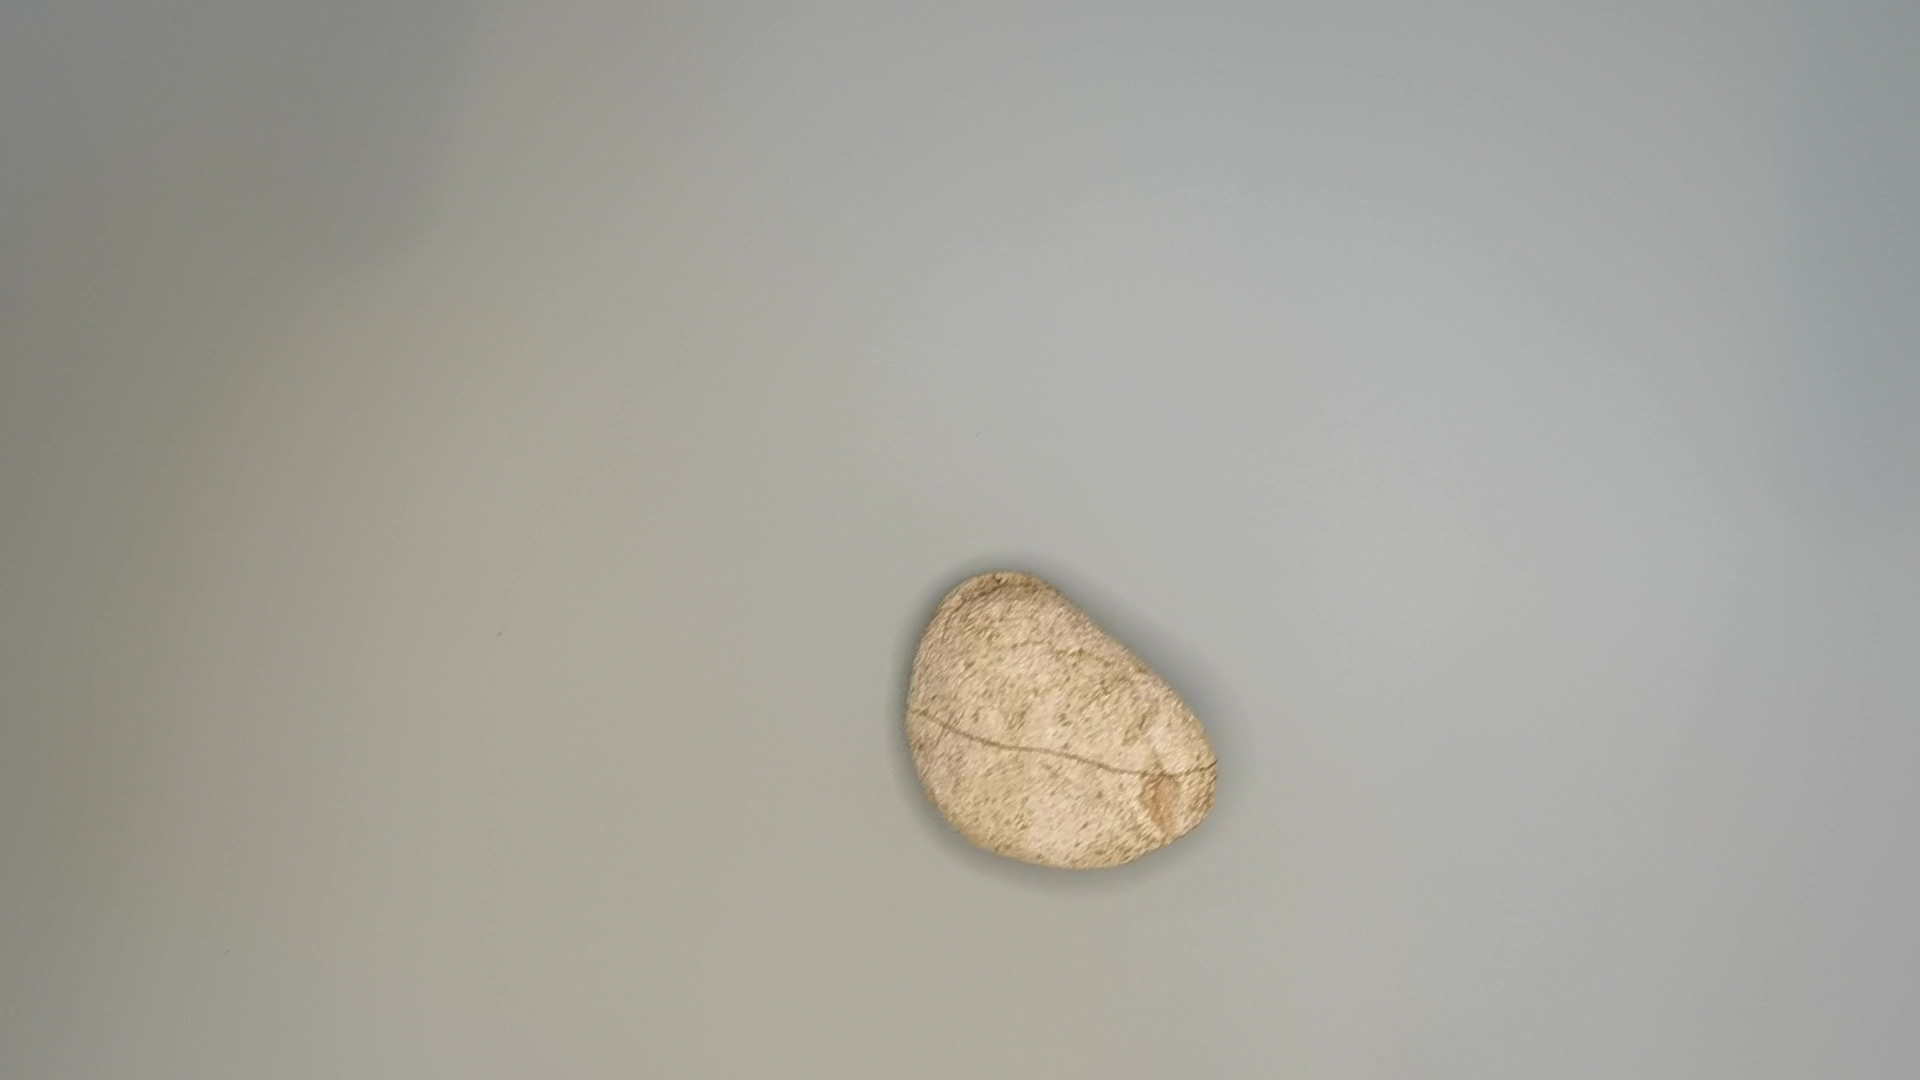ceramic: (891, 564, 1226, 876)
